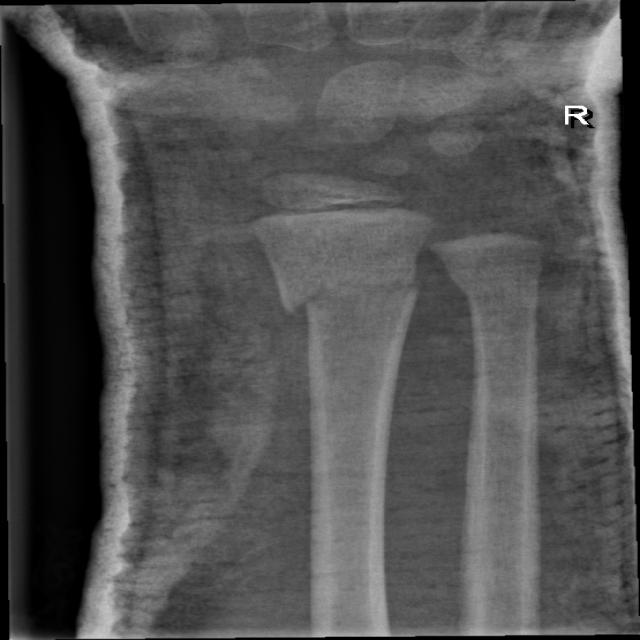radius fracture: (266, 242, 447, 450)
